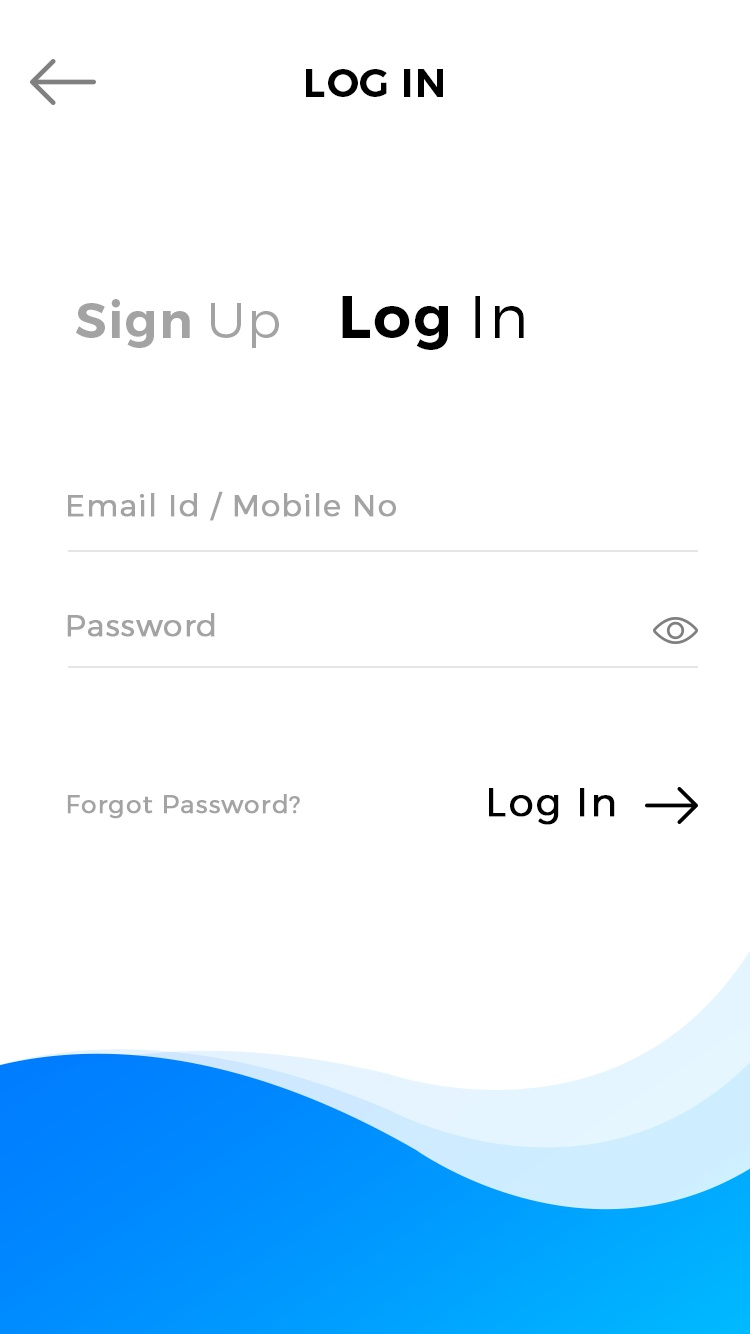EditText: (68, 491, 699, 553), (68, 613, 699, 669)
Icon: (30, 59, 98, 107), (644, 786, 699, 825), (653, 617, 699, 645)
Text: (76, 299, 281, 350), (341, 296, 525, 352), (68, 491, 397, 522), (68, 793, 302, 819), (488, 787, 615, 826), (306, 69, 444, 99), (68, 613, 216, 638)
